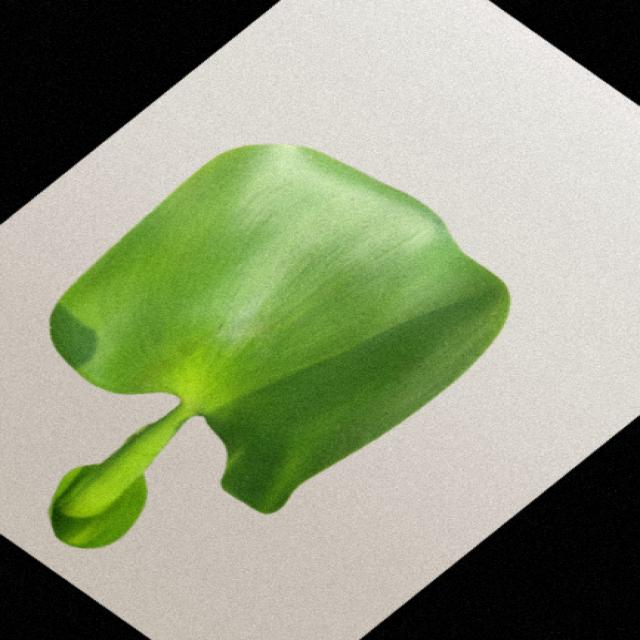daun sehat: (50, 145, 510, 548)
